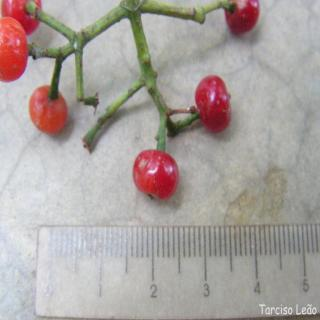tomato: (193, 71, 234, 135), (132, 146, 179, 197), (0, 15, 29, 86), (29, 86, 69, 136), (0, 0, 41, 28), (226, 0, 256, 35)
